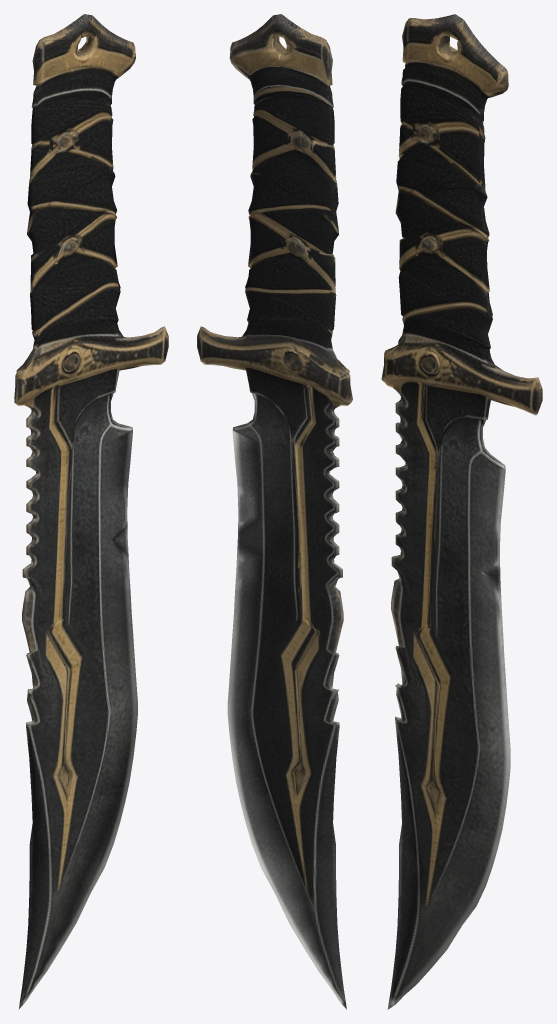
File: knife_gang.glb
3 renders of one model, left to right at view 1: azimuth 30°, elevation 25°; view 2: azimuth 150°, elevation 25°; view 3: azimuth 330°, elevation 25°, orthographic. The views are drawn at different scales.
Bounding box in the file's own units: 0.1567 × 0.9512 × 0.0254.
Materials: 1 (1 with a texture image).
